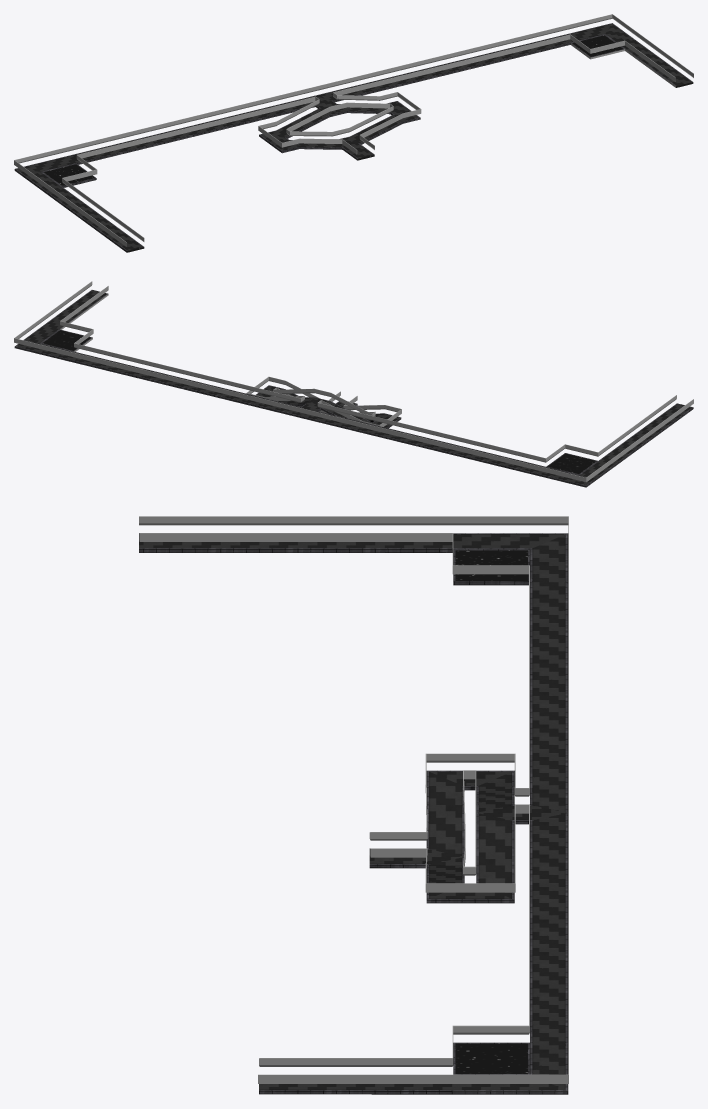
The model's file is Exhibit_Str_Bridge_2_Art.fbx.
3 views of the same model, one above another, from view 1: azimuth 30°, elevation 25°; view 2: azimuth 150°, elevation 25°; view 3: azimuth 270°, elevation 25° (orthographic). The views are drawn at different scales.
Parts seen in each view (by area): view 1: Exhibit_Str_Bridge_2, Exhibit_Str_Bridge_Railing_2; view 2: Exhibit_Str_Bridge_2, Exhibit_Str_Bridge_Railing_2; view 3: Exhibit_Str_Bridge_2, Exhibit_Str_Bridge_Railing_2.
Boxes of the visible parts, x1,y1,x2,y2 form: Exhibit_Str_Bridge_2: (14, 23, 693, 252); Exhibit_Str_Bridge_Railing_2: (14, 14, 693, 246); Exhibit_Str_Bridge_2: (14, 290, 693, 487); Exhibit_Str_Bridge_Railing_2: (14, 281, 693, 482); Exhibit_Str_Bridge_2: (139, 533, 568, 1094); Exhibit_Str_Bridge_Railing_2: (139, 516, 568, 1083).
Size of what is drawn, in the model's own units: 6915 by 369 by 2251.
Materials: 4 (2 with a texture image).
